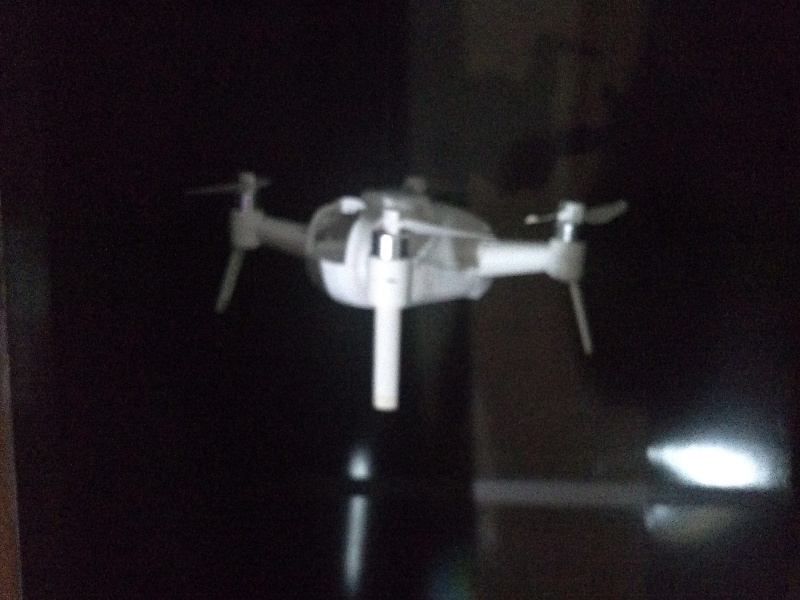drone: (192, 161, 626, 401)
